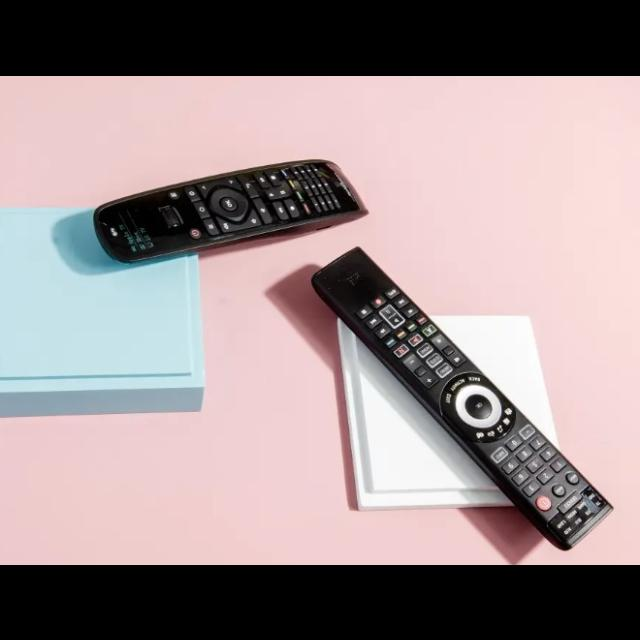TV-Remote-Control: (310, 248, 613, 553), (91, 158, 369, 265)
